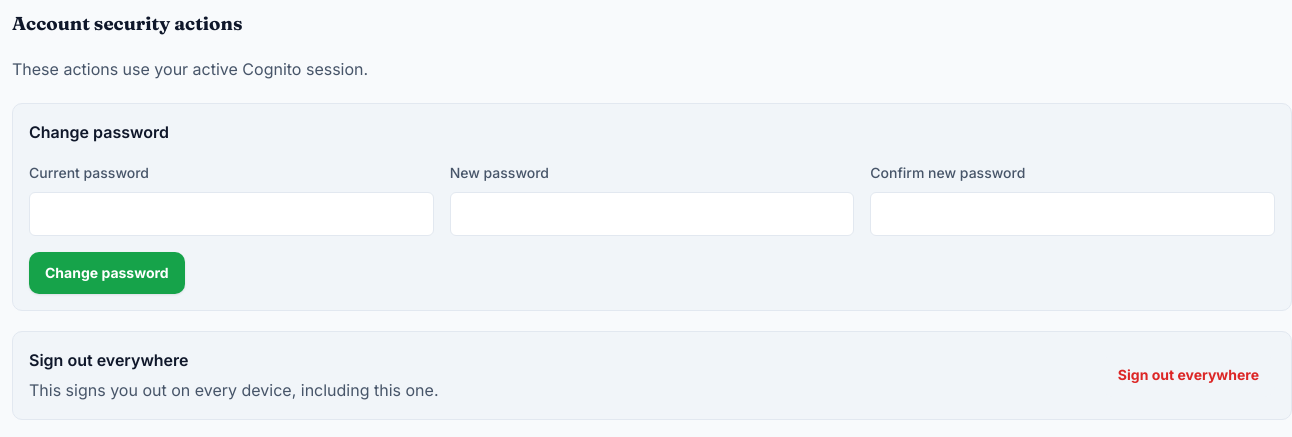
Scenario: AccountSecurityActionsComponent › cancels the inline confirm without signing out
Click the button "Sign out everywhere".
click(1188, 376)  # box [1102,354,1275,396]
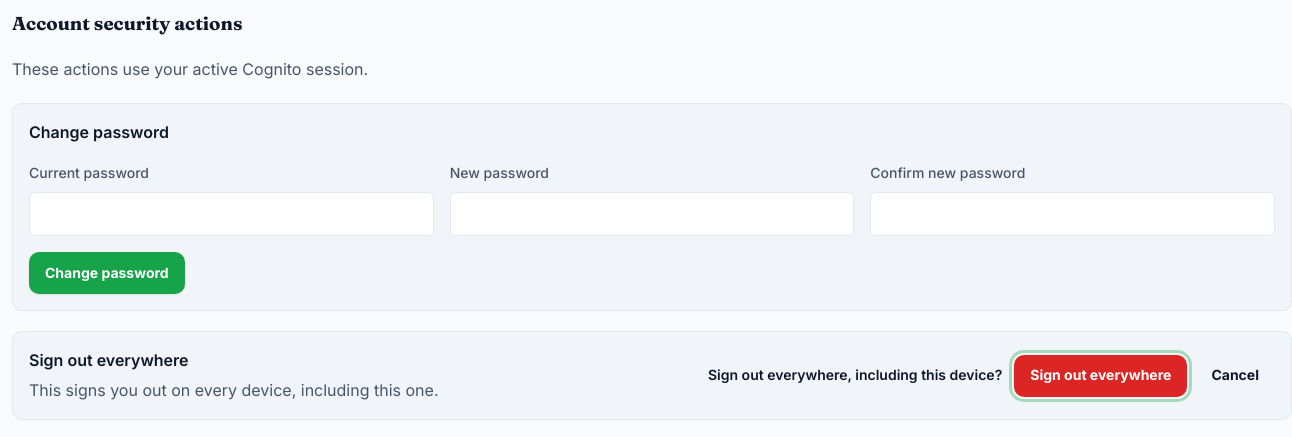
Click the button "Cancel".
click(1235, 376)  # box [1195,354,1275,396]
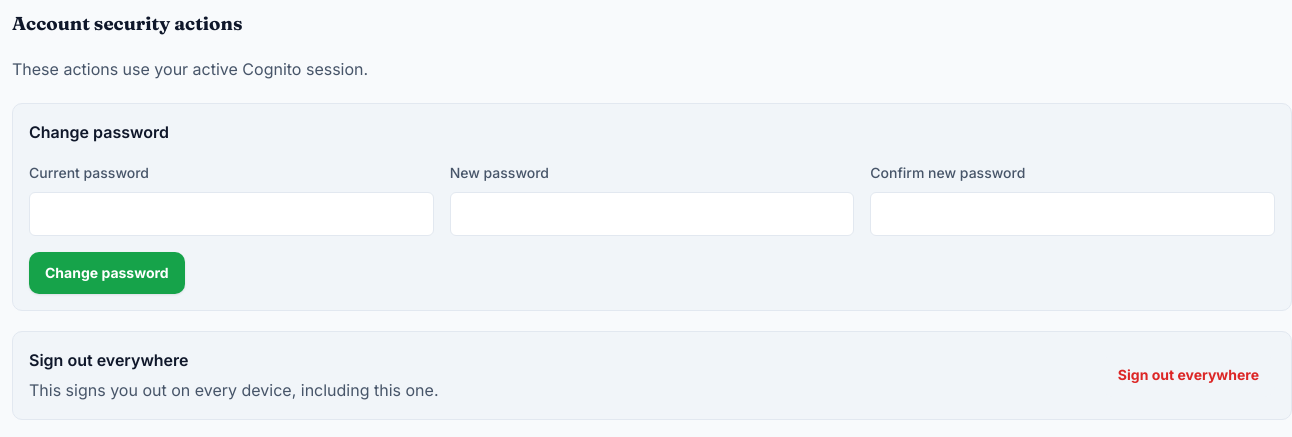
Expected: the text "including this device?" is gone
